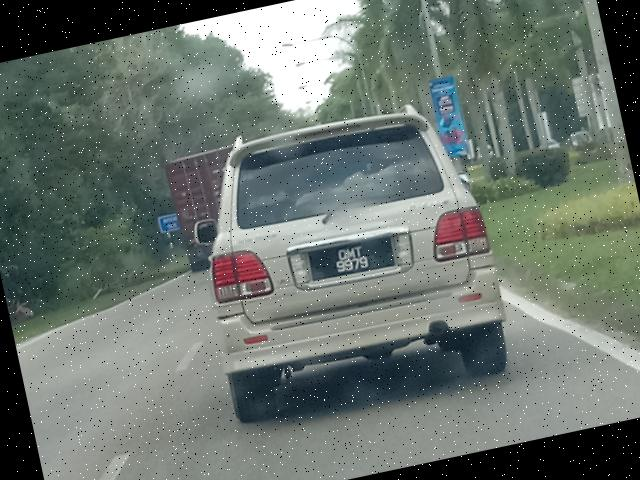License_Plate: (306, 234, 399, 286)
car: (166, 91, 522, 434)
